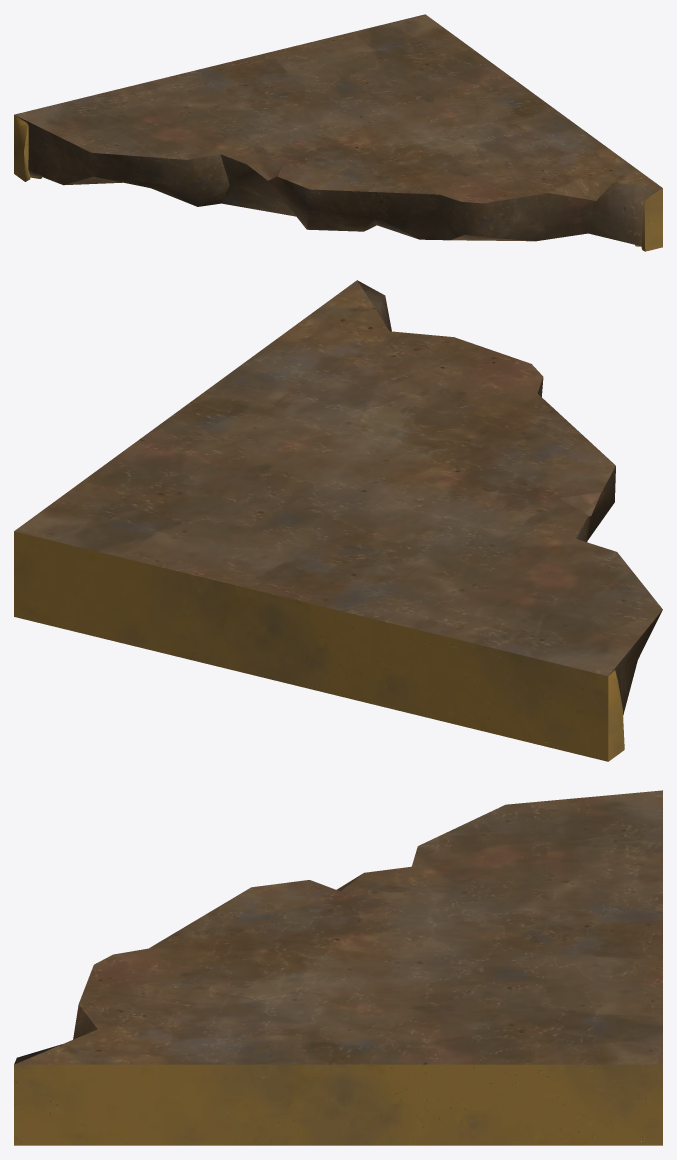
3 views of the same model, one above another, from view 1: azimuth 30°, elevation 25°; view 2: azimuth 150°, elevation 25°; view 3: azimuth 270°, elevation 25° (orthographic). The views are drawn at different scales.
Visible parts, largest first — view 1: SM_Vault_4x4_Ceiling_Dmg_01_LOD0; view 2: SM_Vault_4x4_Ceiling_Dmg_01_LOD0; view 3: SM_Vault_4x4_Ceiling_Dmg_01_LOD0.
Part boxes in pixels (x1,y1,x2,y2): SM_Vault_4x4_Ceiling_Dmg_01_LOD0: [14, 14, 662, 251]; SM_Vault_4x4_Ceiling_Dmg_01_LOD0: [14, 280, 662, 761]; SM_Vault_4x4_Ceiling_Dmg_01_LOD0: [14, 790, 662, 1145].
Bounding box in the file's own units: 4 × 0.5674 × 4.
Materials: 2 (2 with a texture image).
